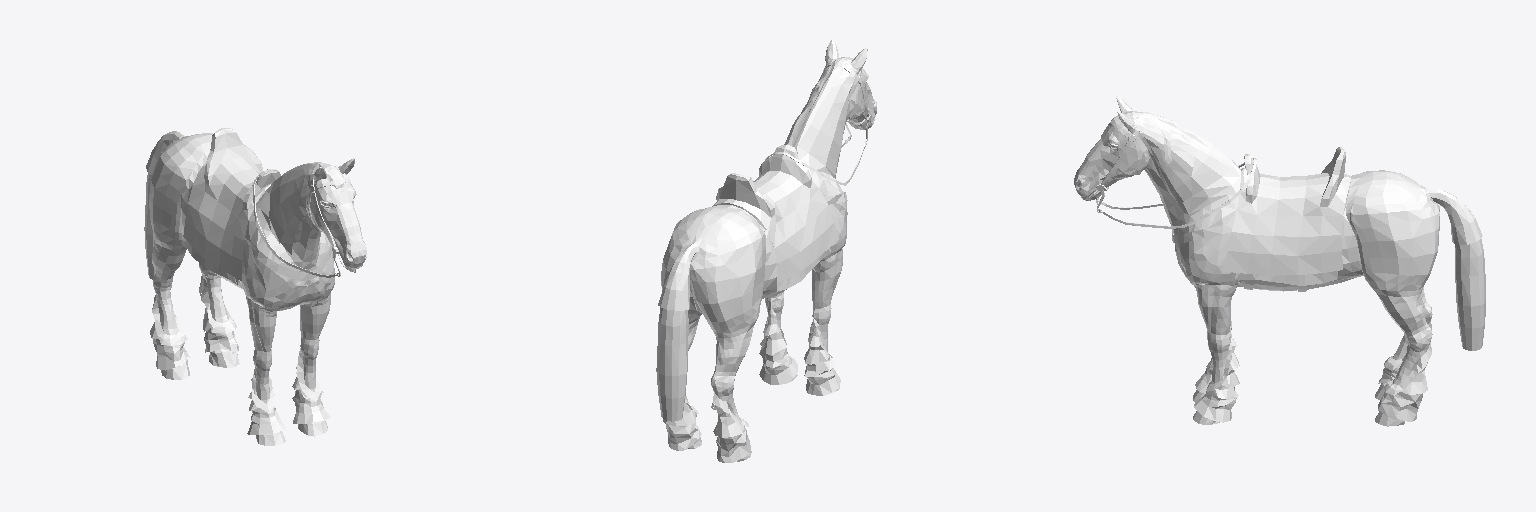
Rendered from newhorse.obj.
3 renders of one model, left to right at view 1: azimuth 30°, elevation 25°; view 2: azimuth 150°, elevation 25°; view 3: azimuth 270°, elevation 25°, orthographic.
Parts seen in each view (by area): view 1: horse; view 2: horse; view 3: horse.
Part boxes in pixels (x1,y1,x2,y2): horse: (144,128,366,445); horse: (656,40,876,462); horse: (1074,95,1485,426).
Size of the model in its own units: 28.91 by 94.54 by 115.